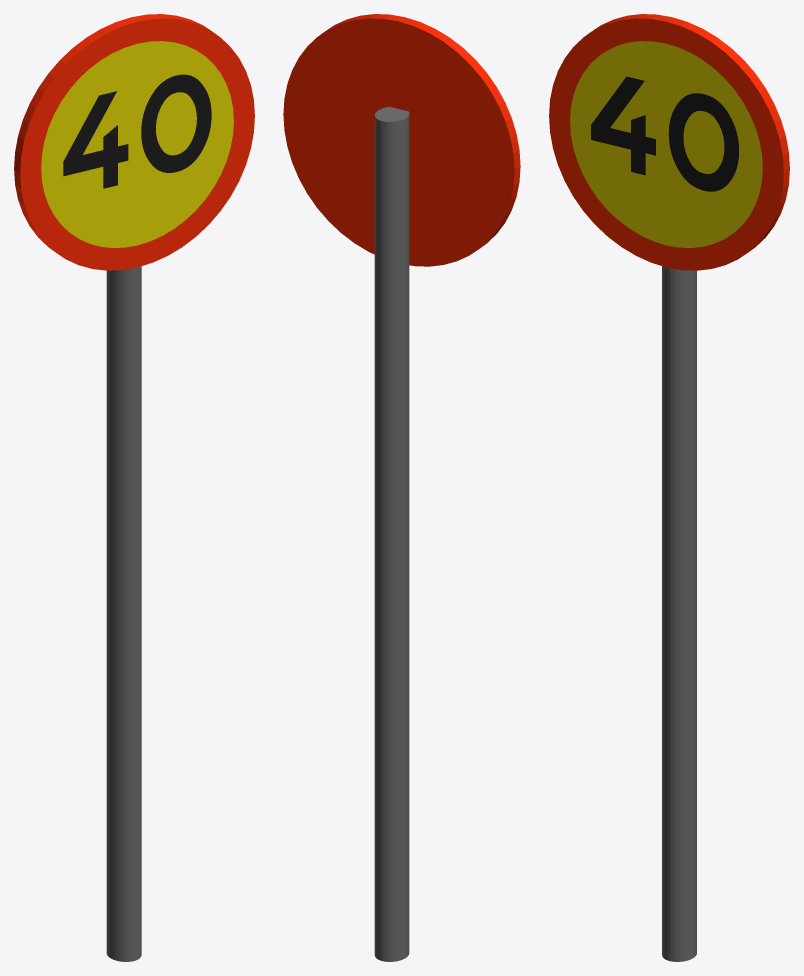
The model's file is Hastighet_40.fbx.
The picture shows the model from 3 angles, left to right: view 1: azimuth 30°, elevation 25°; view 2: azimuth 150°, elevation 25°; view 3: azimuth 330°, elevation 25°; orthographic projection.
Parts seen in each view (by area): view 1: Hastighetsskylt, Trafikstolpe1.001, Text.001; view 2: Hastighetsskylt, Trafikstolpe1.001; view 3: Hastighetsskylt, Trafikstolpe1.001, Text.001.
Boxes of the visible parts, x1,y1,x2,y2 form: Hastighetsskylt: (14, 14, 254, 270); Trafikstolpe1.001: (106, 266, 141, 961); Text.001: (63, 74, 211, 188); Hastighetsskylt: (283, 14, 520, 266); Trafikstolpe1.001: (374, 106, 409, 961); Hastighetsskylt: (549, 14, 789, 270); Trafikstolpe1.001: (662, 266, 696, 961); Text.001: (591, 76, 738, 191).
Bounding box in the file's own units: 1.45 × 5.55 × 0.2533.
